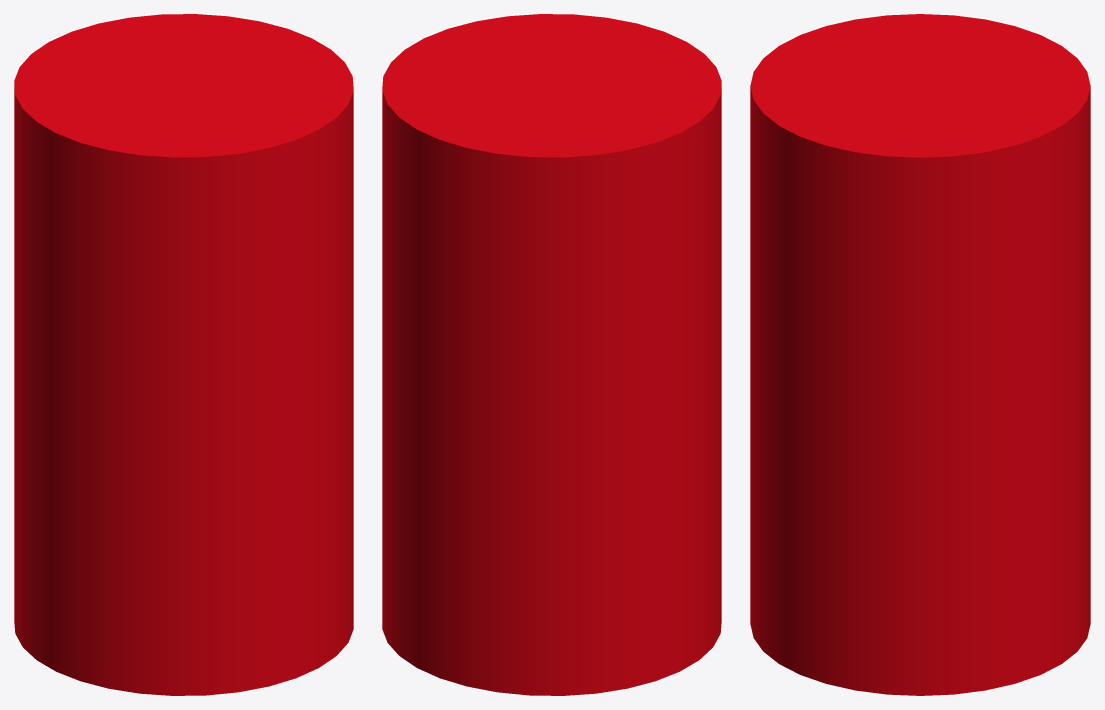
File: 3_cilindro.gltf
The picture shows the model from 3 angles, left to right: view 1: azimuth 30°, elevation 25°; view 2: azimuth 150°, elevation 25°; view 3: azimuth 270°, elevation 25°; orthographic projection.
Parts seen in each view (by area): view 1: 3_cilindro; view 2: 3_cilindro; view 3: 3_cilindro.
Boxes of the visible parts, left/top/right/bottom form: 3_cilindro: left=14, top=14, right=353, bottom=695; 3_cilindro: left=382, top=14, right=721, bottom=695; 3_cilindro: left=750, top=14, right=1090, bottom=695.
Size of the model in its own units: 0.1222 by 0.2133 by 0.1222.
